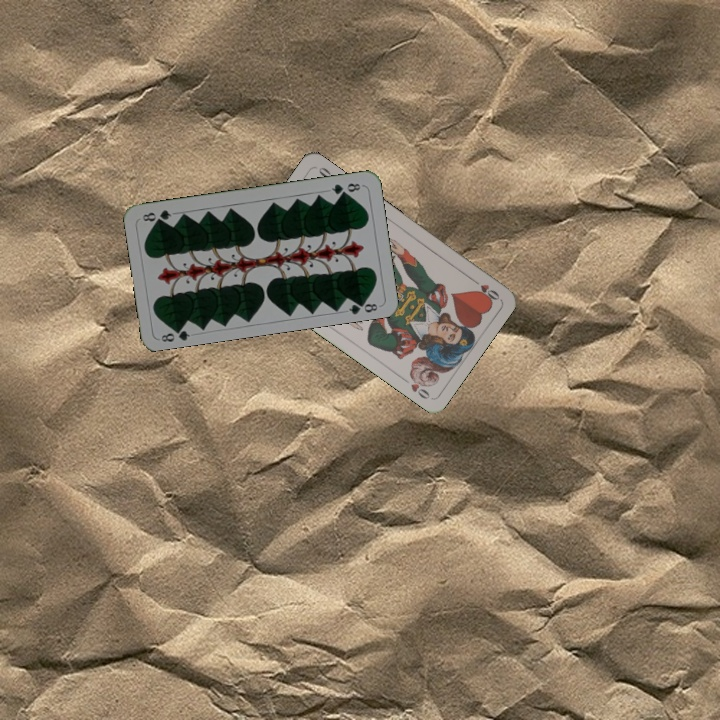G8: (157, 322, 192, 345), (327, 179, 363, 197)
HO: (466, 274, 502, 303)
